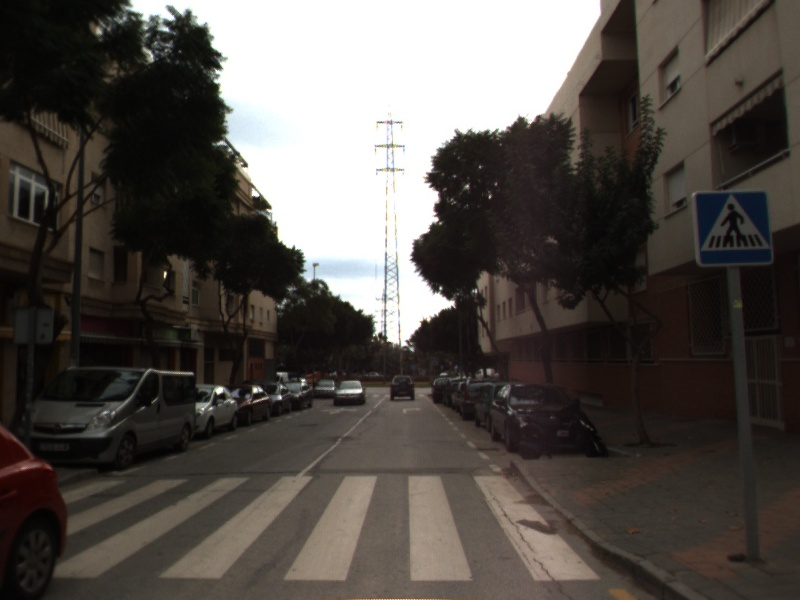RIGHT: (400, 404, 424, 416)
